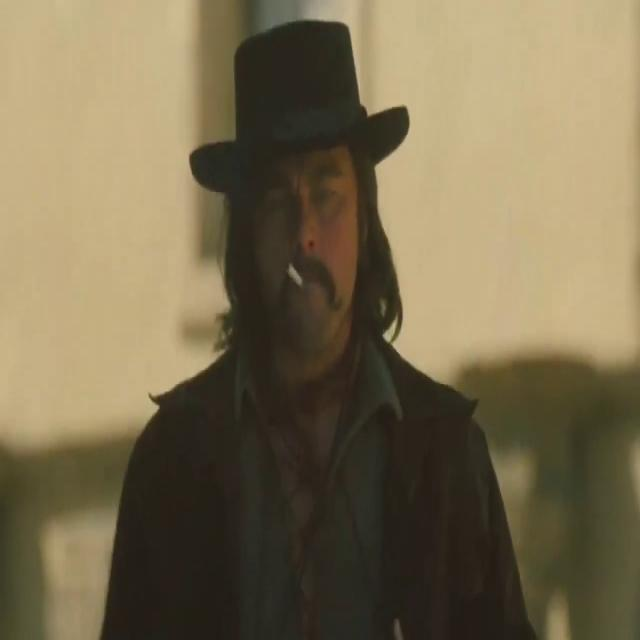Smooking: (278, 248, 308, 294)
